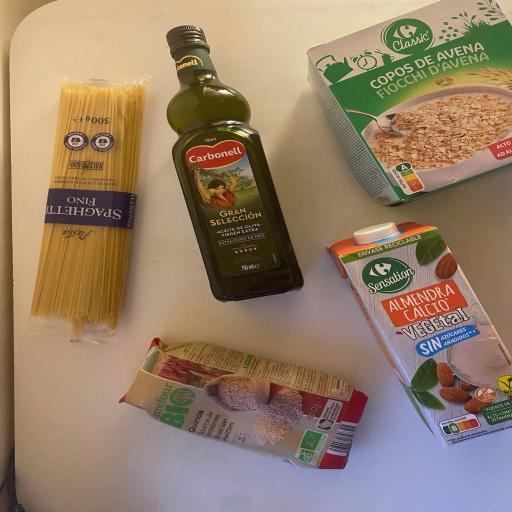almond_milk: (324, 218, 512, 449)
oats: (306, 0, 512, 206)
olive_oil: (163, 23, 306, 305)
quinoa: (116, 335, 372, 472)
spaghetti: (26, 79, 148, 334)
